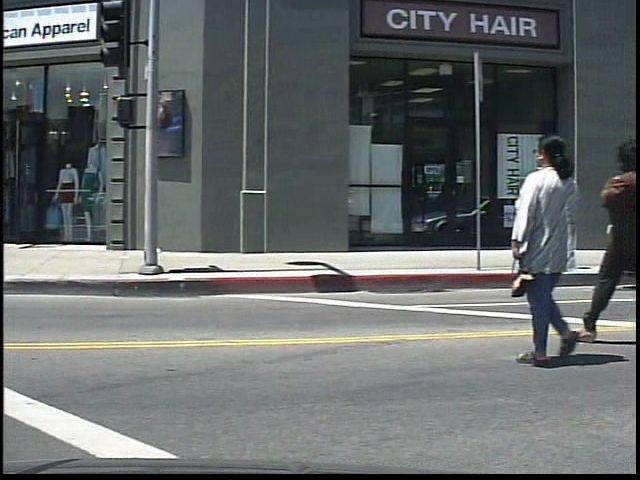person: (516, 120, 607, 369)
